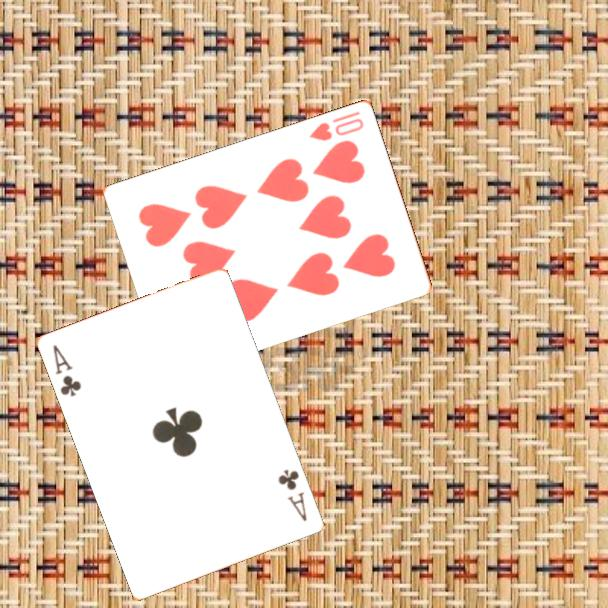c01: (275, 466, 310, 524), (50, 341, 85, 399)
h10: (306, 107, 367, 144)
